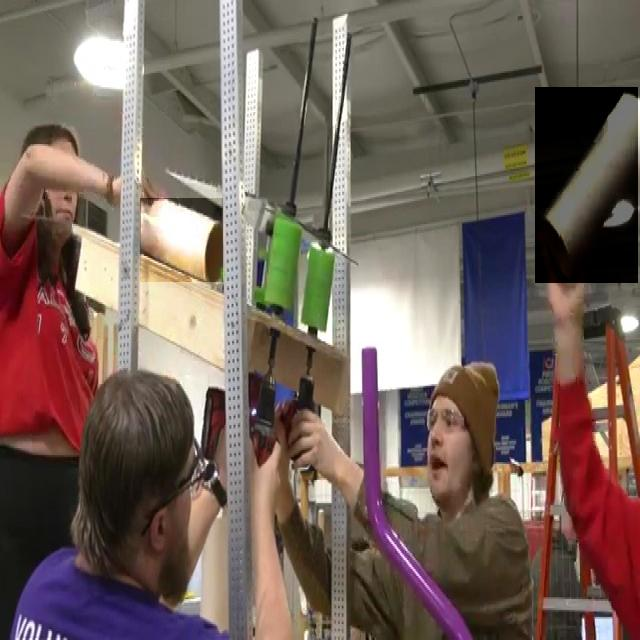Coral: (535, 87, 638, 283), (140, 198, 223, 282)
